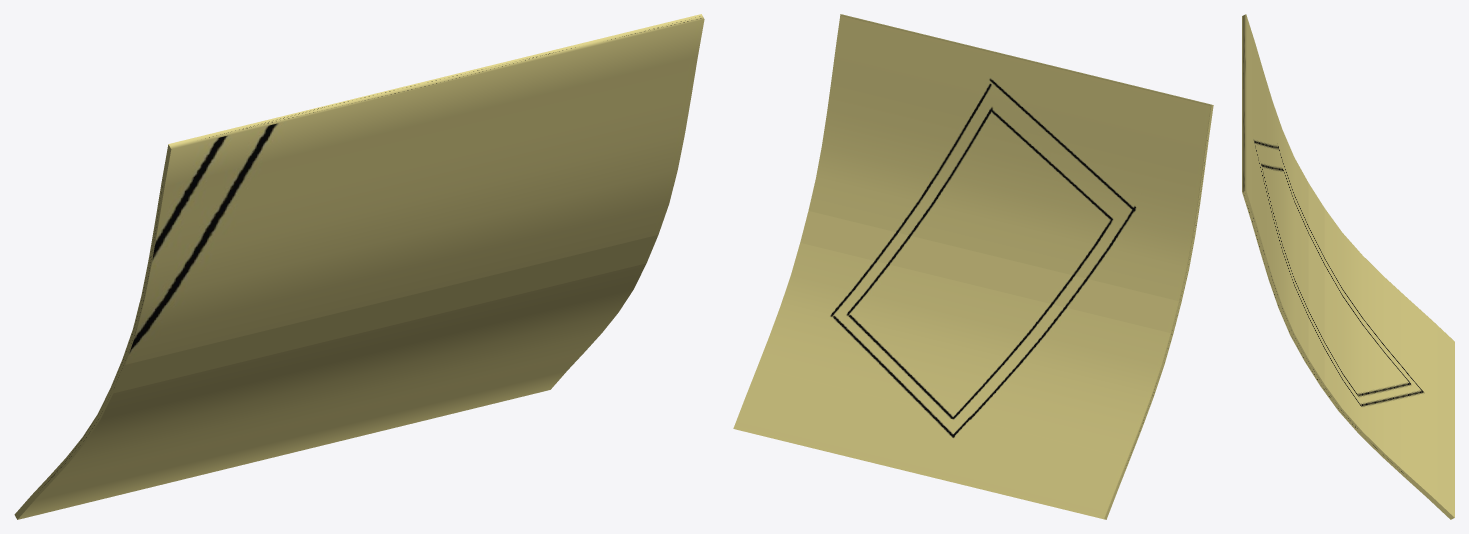
Rendered from 2Day Paper 1.fbx.
3 views of the same model, side by side, from view 1: azimuth 30°, elevation 25°; view 2: azimuth 150°, elevation 25°; view 3: azimuth 270°, elevation 25° (orthographic). The views are drawn at different scales.
Parts seen in each view (by area): view 1: Cube; view 2: Cube; view 3: Cube.
Boxes of the visible parts, x1=… form: Cube: x1=14, y1=14, x2=704, y2=519; Cube: x1=733, y1=14, x2=1213, y2=519; Cube: x1=1242, y1=14, x2=1454, y2=519.
Bounding box in the file's own units: 200 × 174 × 102.
